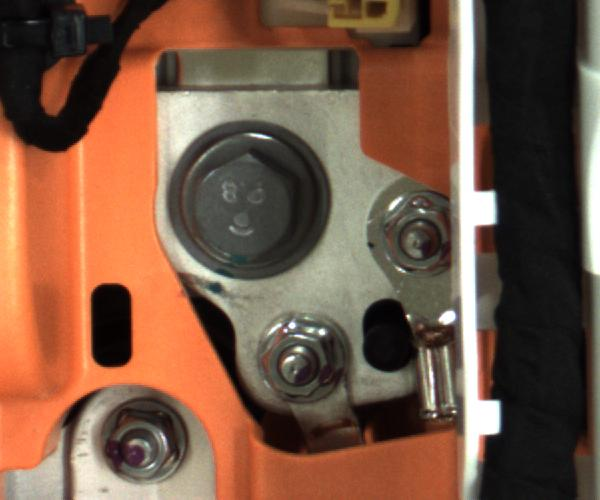nut_b: (173, 131, 333, 283)
screw_s: (249, 316, 336, 400), (376, 191, 451, 281), (100, 402, 178, 480)
